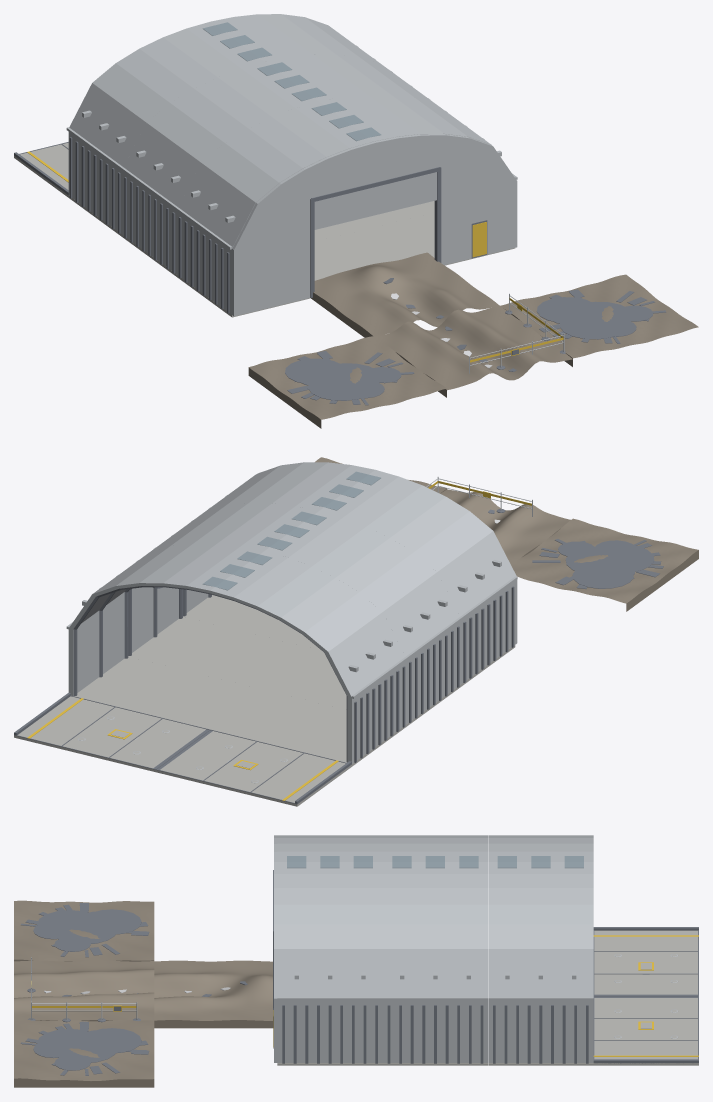
Rendered from ufo-crash-site-and-recovery-facility-connector-cases-fcdef2ab__17378.glb.
The picture shows the model from 3 angles, top to bottom: view 1: azimuth 30°, elevation 25°; view 2: azimuth 150°, elevation 25°; view 3: azimuth 270°, elevation 25°; orthographic projection. The views are drawn at different scales.
Visible parts, largest first — view 1: 010-hangar-bay-end-wall/0, 008-hangar-bay-shell-section/0, 009-hangar-bay-shell-section/0, 001-crash-furrow-tile-end/0, 000-crash-furrow-tile/0, 003-scorched-ground-tile/0, 002-scorched-ground-tile/0, 010-hangar-bay-end-wall/1, 003-scorched-ground-tile/1, 002-scorched-ground-tile/1, 010-hangar-bay-end-wall/2, 008-hangar-bay-shell-section/2 (+6 smaller); view 2: 008-hangar-bay-shell-section/0, 009-hangar-bay-shell-section/0, 010-hangar-bay-end-wall/0, 007-bay-floor-slab/0, 008-hangar-bay-shell-section/1, 009-hangar-bay-shell-section/1, 003-scorched-ground-tile/0, 003-scorched-ground-tile/1, 008-hangar-bay-shell-section/2, 000-crash-furrow-tile/0, 010-hangar-bay-end-wall/1, 010-hangar-bay-end-wall/2 (+6 smaller); view 3: 010-hangar-bay-end-wall/0, 008-hangar-bay-shell-section/0, 009-hangar-bay-shell-section/0, 007-bay-floor-slab/0, 001-crash-furrow-tile-end/0, 000-crash-furrow-tile/0, 002-scorched-ground-tile/0, 003-scorched-ground-tile/0, 003-scorched-ground-tile/1, 002-scorched-ground-tile/1, 007-bay-floor-slab/1, 010-hangar-bay-end-wall/2 (+6 smaller).
Boxes of the visible parts, bbox=[...] form: 010-hangar-bay-end-wall/0: bbox=[175, 94, 517, 316]; 008-hangar-bay-shell-section/0: bbox=[66, 14, 392, 234]; 009-hangar-bay-shell-section/0: bbox=[121, 54, 447, 274]; 001-crash-furrow-tile-end/0: bbox=[311, 252, 499, 337]; 000-crash-furrow-tile/0: bbox=[375, 305, 572, 397]; 003-scorched-ground-tile/0: bbox=[248, 336, 446, 428]; 002-scorched-ground-tile/0: bbox=[501, 274, 698, 366]; 010-hangar-bay-end-wall/1: bbox=[177, 212, 515, 317]; 003-scorched-ground-tile/1: bbox=[285, 351, 414, 405]; 002-scorched-ground-tile/1: bbox=[537, 289, 666, 343]; 010-hangar-bay-end-wall/2: bbox=[178, 167, 487, 313]; 008-hangar-bay-shell-section/2: bbox=[69, 137, 120, 233]; 008-hangar-bay-shell-section/0: bbox=[66, 543, 408, 763]; 009-hangar-bay-shell-section/0: bbox=[132, 503, 462, 724]; 010-hangar-bay-end-wall/0: bbox=[186, 462, 517, 684]; 007-bay-floor-slab/0: bbox=[14, 696, 351, 806]; 008-hangar-bay-shell-section/1: bbox=[74, 656, 406, 766]; 009-hangar-bay-shell-section/1: bbox=[128, 617, 460, 726]; 003-scorched-ground-tile/0: bbox=[511, 518, 698, 611]; 003-scorched-ground-tile/1: bbox=[532, 539, 663, 588]; 008-hangar-bay-shell-section/2: bbox=[73, 586, 405, 762]; 000-crash-furrow-tile/0: bbox=[440, 489, 570, 564]; 010-hangar-bay-end-wall/1: bbox=[183, 595, 515, 686]; 010-hangar-bay-end-wall/2: bbox=[183, 586, 514, 682]; 010-hangar-bay-end-wall/0: bbox=[274, 835, 382, 1062]; 008-hangar-bay-shell-section/0: bbox=[488, 835, 593, 1062]; 009-hangar-bay-shell-section/0: bbox=[382, 835, 487, 1062]; 007-bay-floor-slab/0: bbox=[593, 930, 698, 1065]; 001-crash-furrow-tile-end/0: bbox=[154, 960, 273, 1028]; 000-crash-furrow-tile/0: bbox=[14, 960, 154, 1021]; 002-scorched-ground-tile/0: bbox=[14, 1019, 154, 1087]; 003-scorched-ground-tile/0: bbox=[14, 900, 154, 961]; 003-scorched-ground-tile/1: bbox=[21, 903, 149, 957]; 002-scorched-ground-tile/1: bbox=[20, 1021, 148, 1075]; 007-bay-floor-slab/1: bbox=[593, 927, 698, 1063]; 010-hangar-bay-end-wall/2: bbox=[273, 870, 377, 1063].
Size of the model in its own units: 24 by 8.6 by 39.01.
